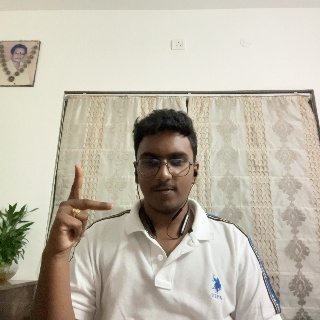Face: (132, 118, 194, 210)
Okay: (46, 165, 111, 273)
